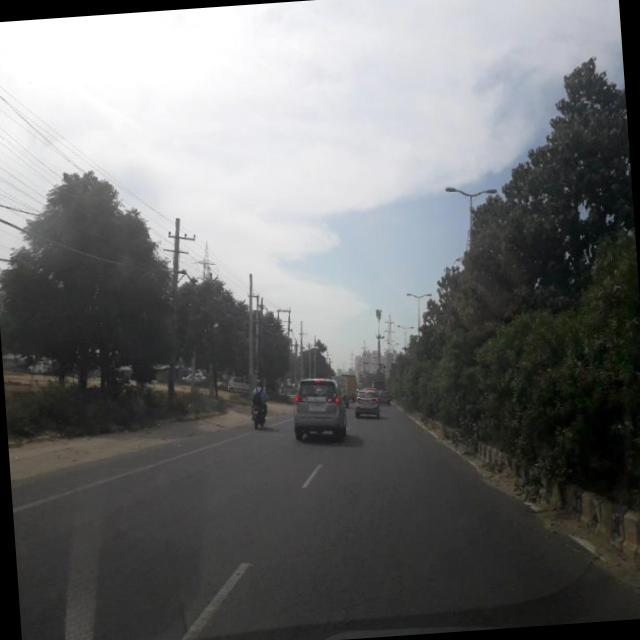crack: (9, 423, 582, 640)
